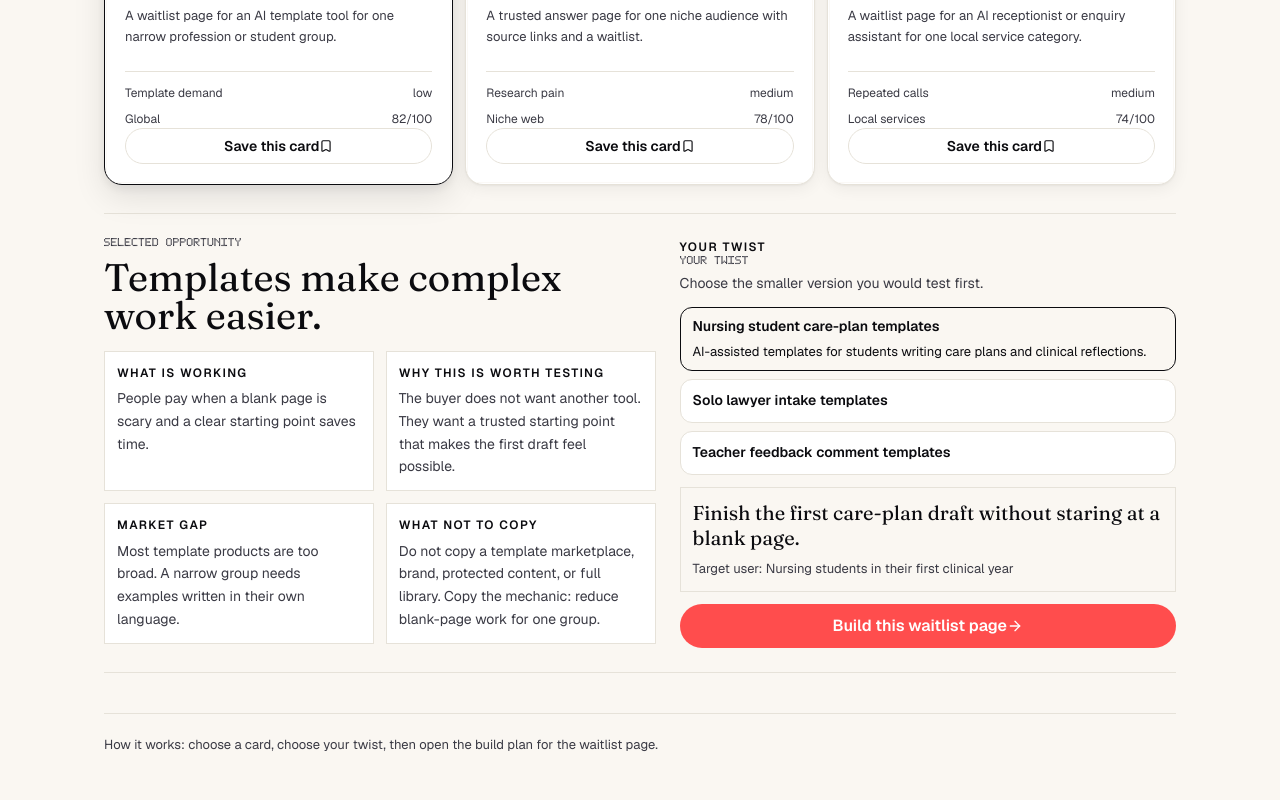
Test: HomeClient - discovery homepage loop › selecting a different twist changes the homepage waitlist angle
(page scrolled)
Click the button "Solo lawyer intake templates".
click(790, 400)  # box [680,379,1176,423]
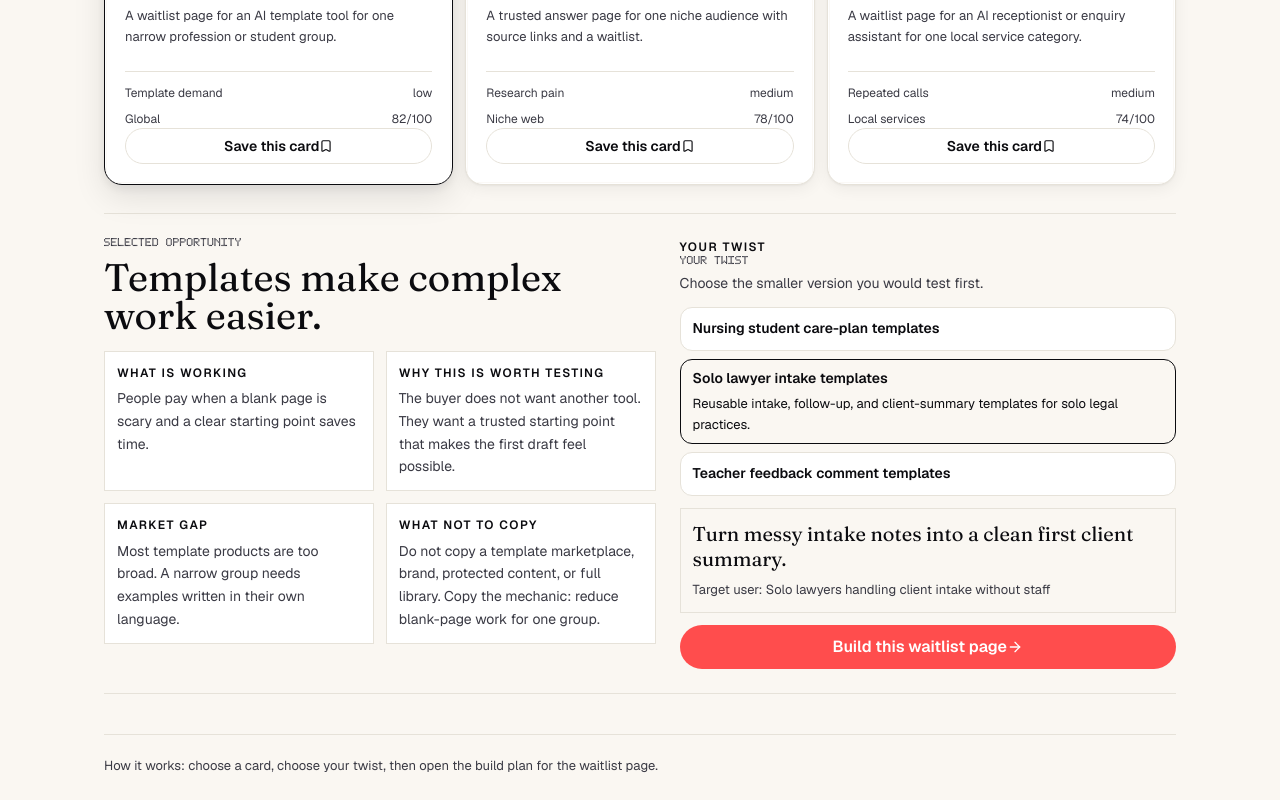
Result: the text "Turn messy intake notes into a clean first client summary." is shown at [693,521,1163,571]
